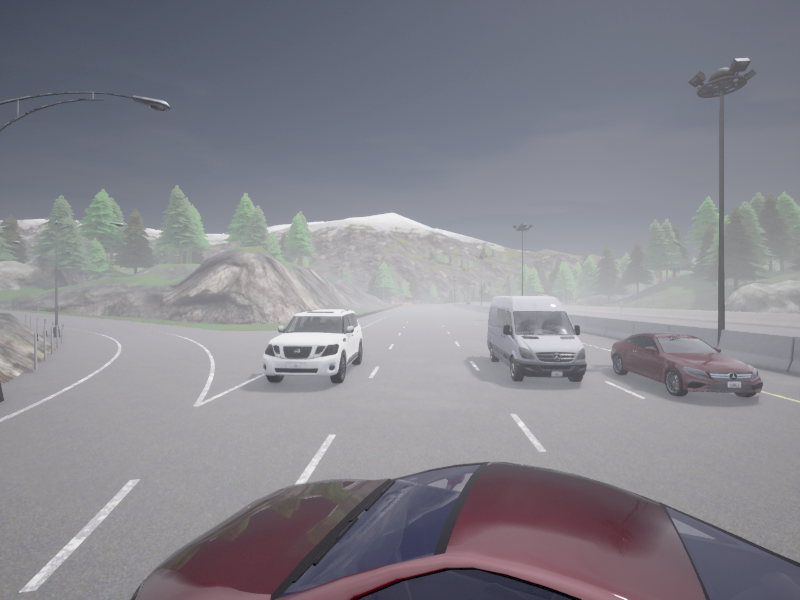vehicle: (130, 462, 799, 599), (611, 332, 762, 396), (487, 296, 586, 381), (262, 309, 362, 382), (466, 302, 470, 304)
